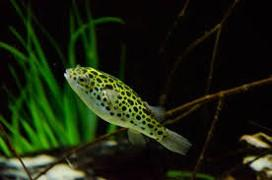Green Spotted Puffer: (64, 56, 189, 166)
